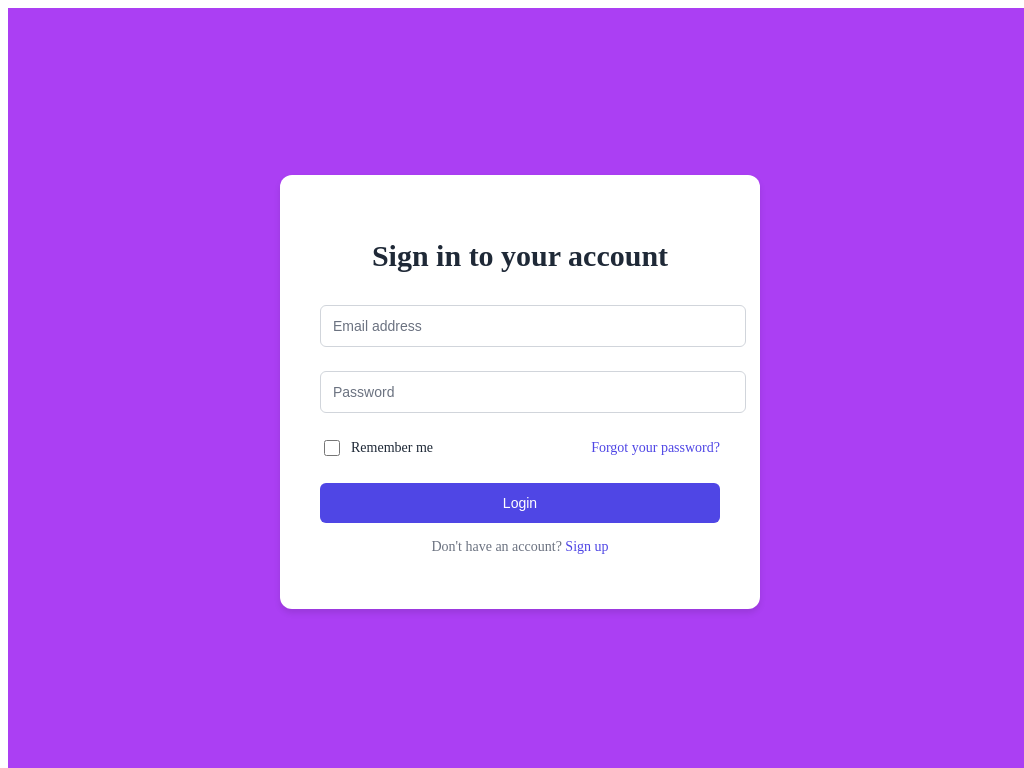
Tests Login page › When clicking (Sign up), should move to SignupView
// Click the Sign up link
Click the link "Sign up".
click(587, 547)  # box [565,539,608,554]
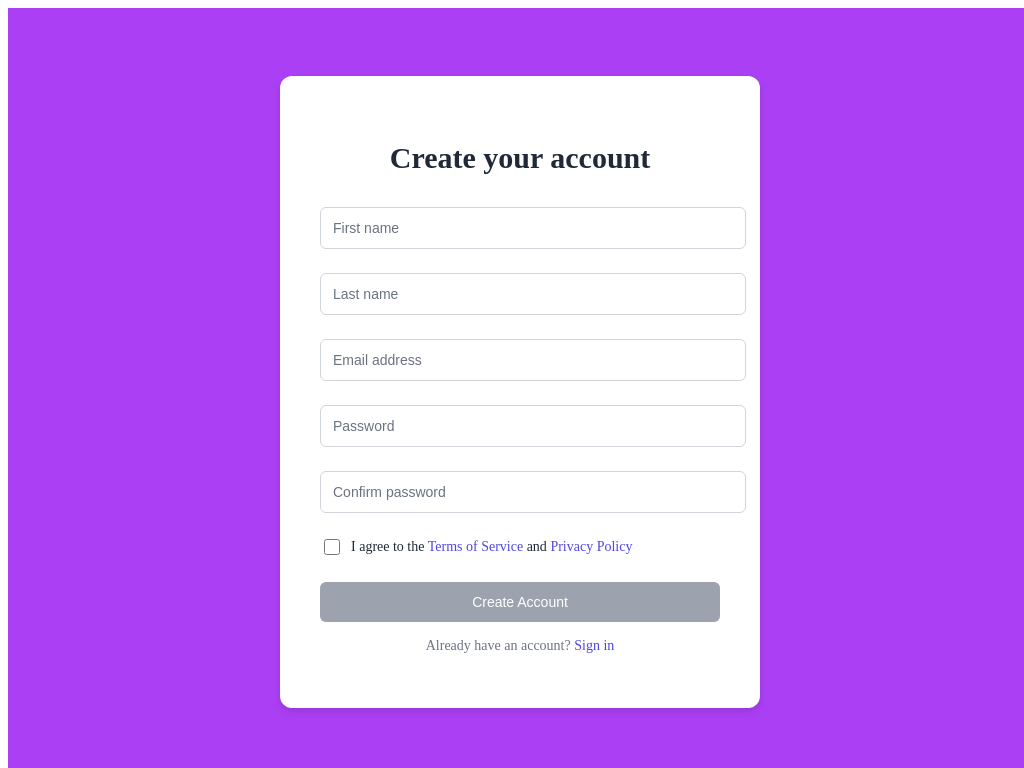
Result: the heading "Create your account" is shown at [390,141,650,174]
